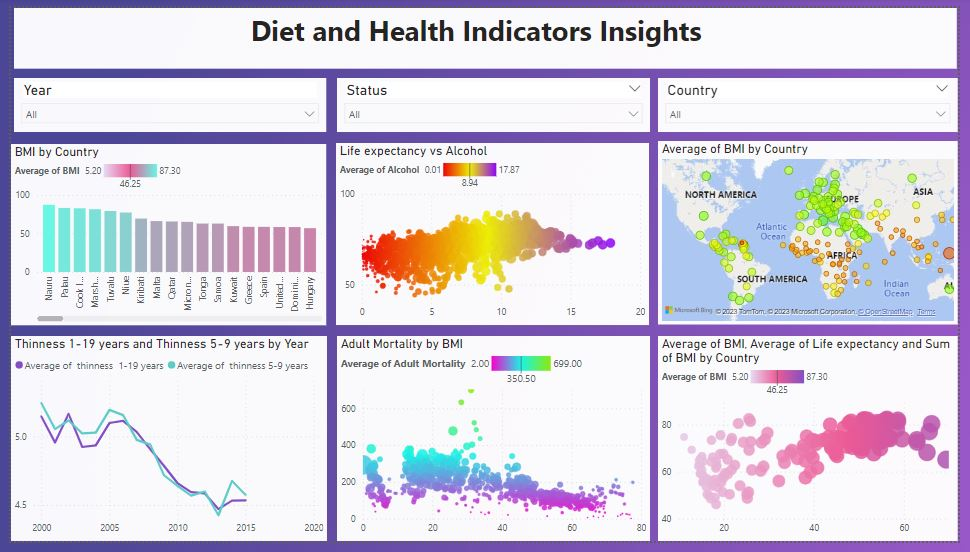

What the dashboard file says about the page in this screenshot:
{"tool":"powerbi","page":{"name":"Diet and Health Indicators insights ","canvas":[1280,720],"ordinal":3},"visuals":[{"type":"clusteredColumnChart","title":" BMI by Country","fields":{"Category":["Life Expectancy Data.Country"],"Y":["Avg(Life Expectancy Data.BMI)"]},"box":[0,184.3,426.2,244.8],"z":0},{"type":"scatterChart","title":" Life expectancy  vs Alcohol ","fields":{"Y":["Avg(Life Expectancy Data.Life expectancy )"],"X":["Life Expectancy Data.Alcohol"],"Size":["Sum(Life Expectancy Data.Alcohol)"]},"box":[439.2,182.9,423.4,246.2],"z":1000},{"type":"lineChart","title":"Thinness  1-19 years and  Thinness 5-9 years by Year","fields":{"Category":["Life Expectancy Data.Year"],"Y":["Avg(Life Expectancy Data. thinness  1-19 years)","Avg(Life Expectancy Data. thinness 5-9 years)"]},"box":[0,442.7,426.7,276.7],"z":2000},{"type":"scatterChart","title":" Adult Mortality by BMI","fields":{"Y":["Avg(Life Expectancy Data.Adult Mortality)"],"X":["Life Expectancy Data.BMI"],"Size":["Sum(Life Expectancy Data.Adult Mortality)1"]},"box":[440.9,442.7,423.1,276.7],"z":3000},{"type":"scatterChart","fields":{"X":["Avg(Life Expectancy Data.BMI)"],"Y":["Avg(Life Expectancy Data.Life expectancy )"],"Category":["Life Expectancy Data.Country"],"Size":["Sum(Life Expectancy Data.BMI)1"]},"box":[874.8,442.7,405.2,276.7],"z":4000},{"type":"map","fields":{"Category":["Life Expectancy Data.Country"],"Size":["Avg(Life Expectancy Data.BMI)"]},"box":[874.8,180.3,405.2,248.1],"z":5000},{"type":"slicer","fields":{"Values":["Life Expectancy Data.Country"]},"box":[874.1,95,404.6,73.4],"z":6000},{"type":"slicer","fields":{"Values":["Life Expectancy Data.Year"]},"box":[4.3,95,421.9,73.4],"z":7000},{"type":"slicer","fields":{"Values":["Life Expectancy Data.Status"]},"box":[440.6,95,423.4,73.4],"z":8000},{"type":"textbox","box":[4.3,0,1274.4,82.1],"z":9000}]}

Visuals, with their boxes in screenshot pixels (x1, y1, x2, y2), scaled from the page's 1280x720 canvas onto the 970x552 screenshot:
" BMI by Country" clusteredColumnChart: (0,141,323,329)
" Life expectancy  vs Alcohol " scatterChart: (333,140,654,329)
"Thinness  1-19 years and  Thinness 5-9 years by Year" lineChart: (0,339,323,551)
" Adult Mortality by BMI" scatterChart: (334,339,655,551)
scatterChart - Avg(Life Expectancy Data.BMI) x Avg(Life Expectancy Data.Life expectancy ): (663,339,969,551)
map - Life Expectancy Data.Country x Avg(Life Expectancy Data.BMI): (663,138,969,328)
slicer - Life Expectancy Data.Country: (662,73,969,129)
slicer - Life Expectancy Data.Year: (3,73,323,129)
slicer - Life Expectancy Data.Status: (334,73,655,129)
textbox: (3,0,969,63)
